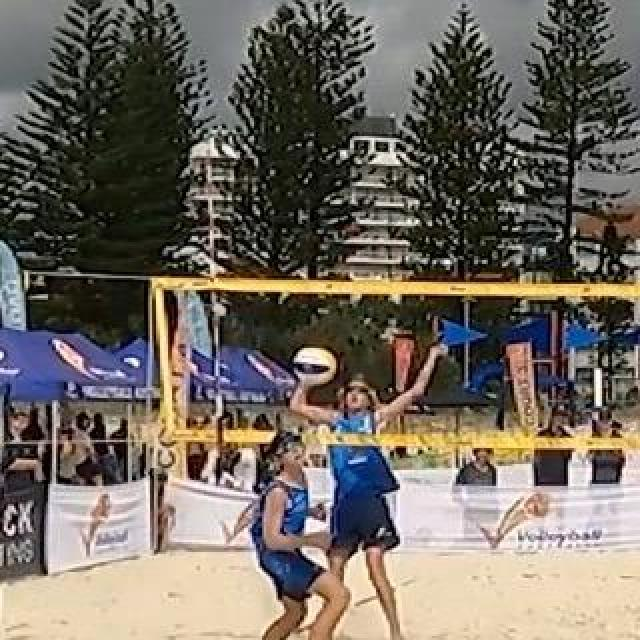volleyball: (292, 345, 340, 385)
